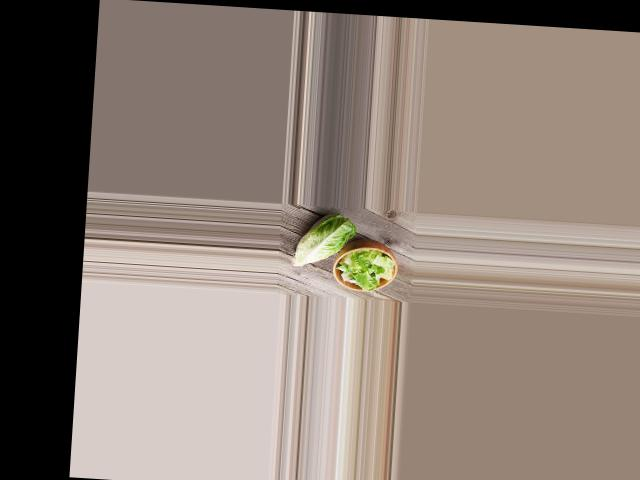lettuce: (293, 209, 356, 270)
